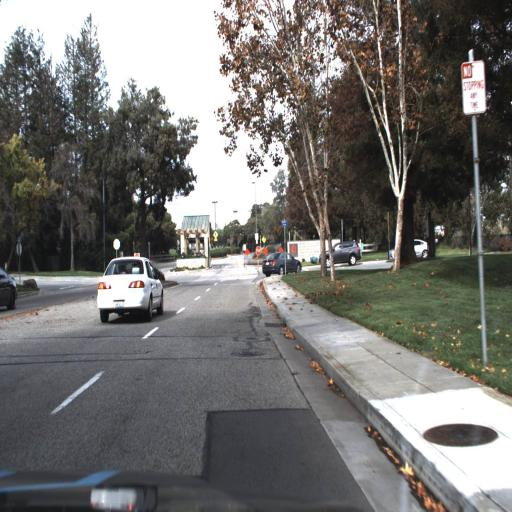car: (93, 253, 166, 323), (317, 238, 364, 270), (259, 249, 302, 276), (387, 236, 429, 261), (0, 265, 17, 314), (394, 239, 430, 261)
